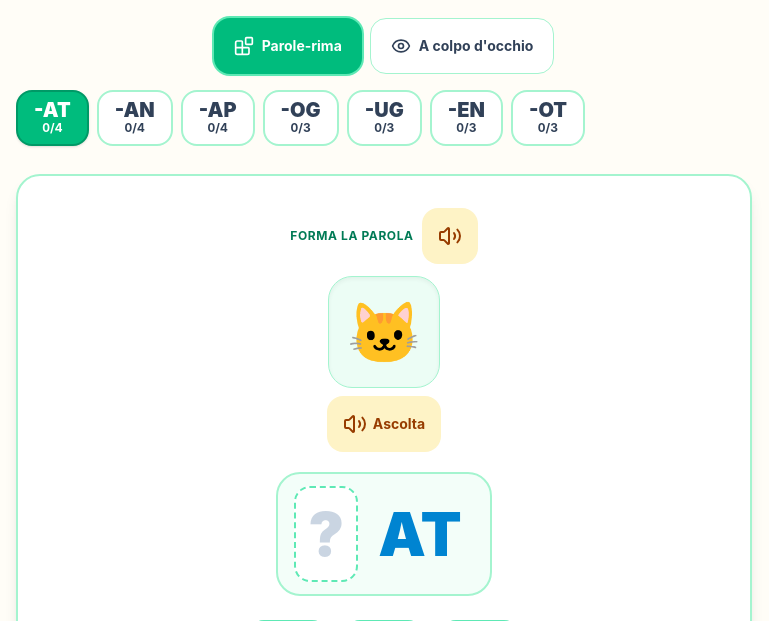
EnglishRead › opens on the word families and switches to the sight words and back
Expected: the text "Forma la parola" is shown, x1=290 y1=228 x2=414 y2=244
Click the button "A colpo d'occhio" at (462, 46), box x1=370 y1=18 x2=554 y2=74
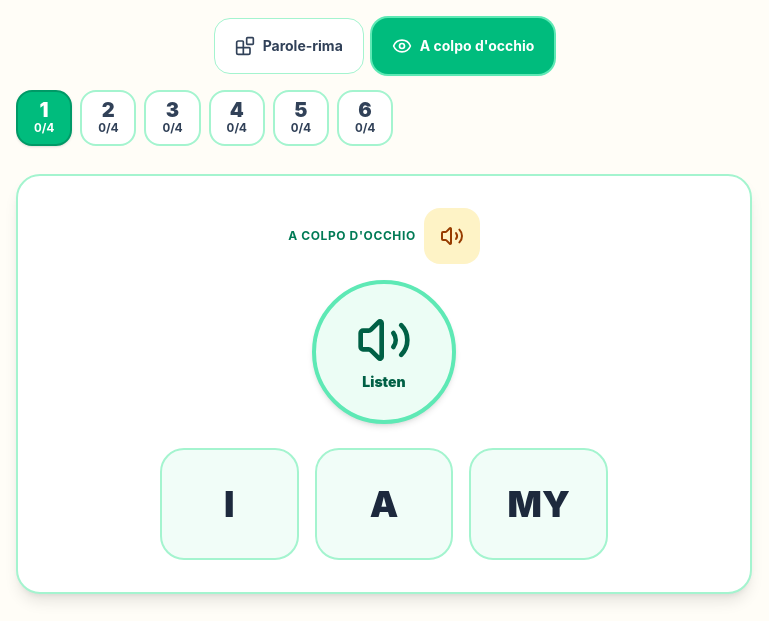
Now the text "Forma la parola" is gone
Now the number of buttons named "Parola " is 3, box x1=160 y1=448 x2=299 y2=560; x1=315 y1=448 x2=453 y2=560; x1=469 y1=448 x2=608 y2=560
Click the button "Parole-rima" at (289, 46), box x1=214 y1=18 x2=364 y2=74
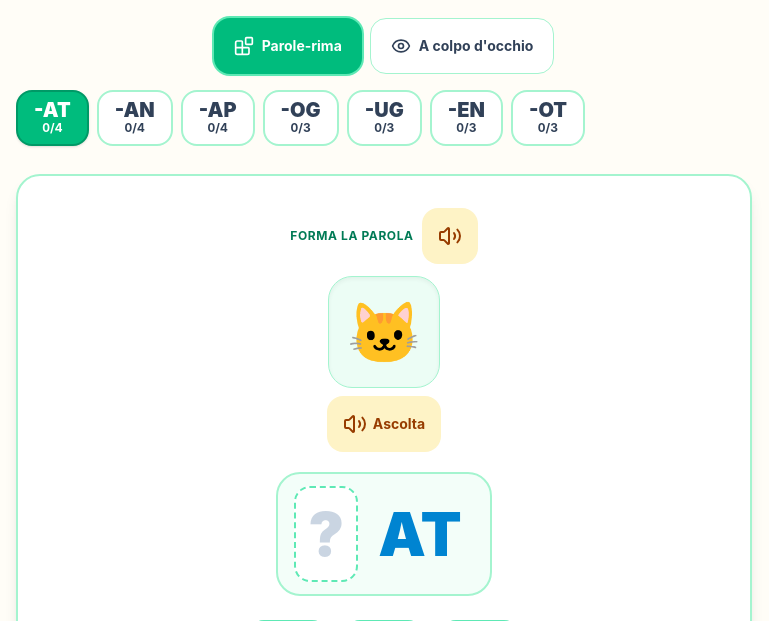
Now the text "Forma la parola" is shown, box x1=290 y1=228 x2=414 y2=244
